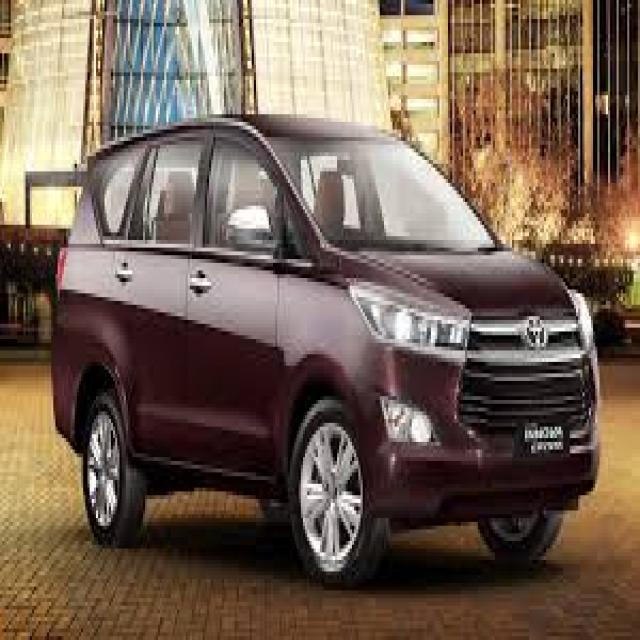light_vehicle: (54, 114, 600, 587)
